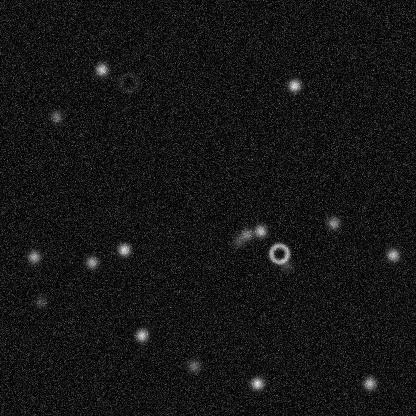Ring: (116, 70, 140, 94), (267, 241, 291, 265)
Spot: (93, 61, 109, 77), (25, 248, 41, 264), (133, 327, 149, 343), (83, 254, 99, 270), (230, 232, 246, 248), (384, 246, 400, 262), (249, 375, 265, 391), (238, 226, 254, 242), (325, 215, 341, 231), (286, 77, 302, 93), (361, 375, 377, 391), (32, 293, 48, 309), (185, 357, 201, 373), (252, 223, 268, 239), (278, 257, 294, 273), (115, 241, 131, 257), (48, 108, 64, 124)
